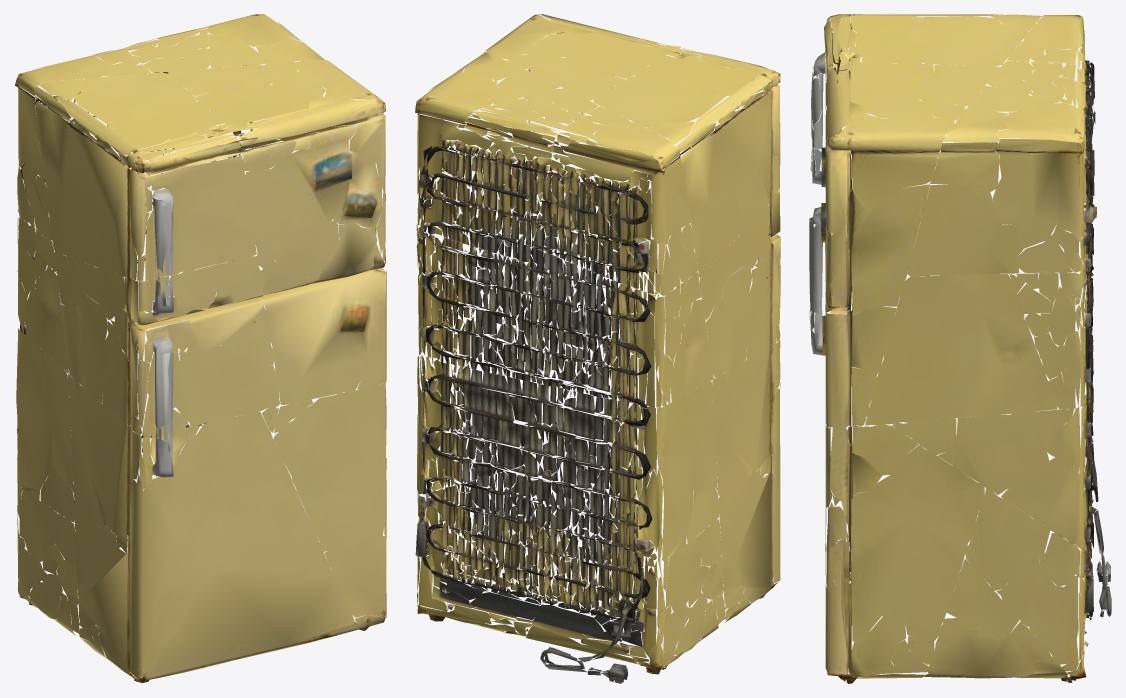
The model's file is fridge_prop.glb.
3 renders of one model, left to right at view 1: azimuth 30°, elevation 25°; view 2: azimuth 150°, elevation 25°; view 3: azimuth 270°, elevation 25°, orthographic. The views are drawn at different scales.
Visible parts, largest first — view 1: prop_fridge; view 2: prop_fridge; view 3: prop_fridge.
Part boxes in pixels (<box>): prop_fridge: <box>15,14,386,683</box>; prop_fridge: <box>415,14,780,683</box>; prop_fridge: <box>809,14,1111,683</box>.
Size of the model in its own units: 0.4792 by 0.9788 by 0.4818.
Materials: 1 (1 with a texture image).
